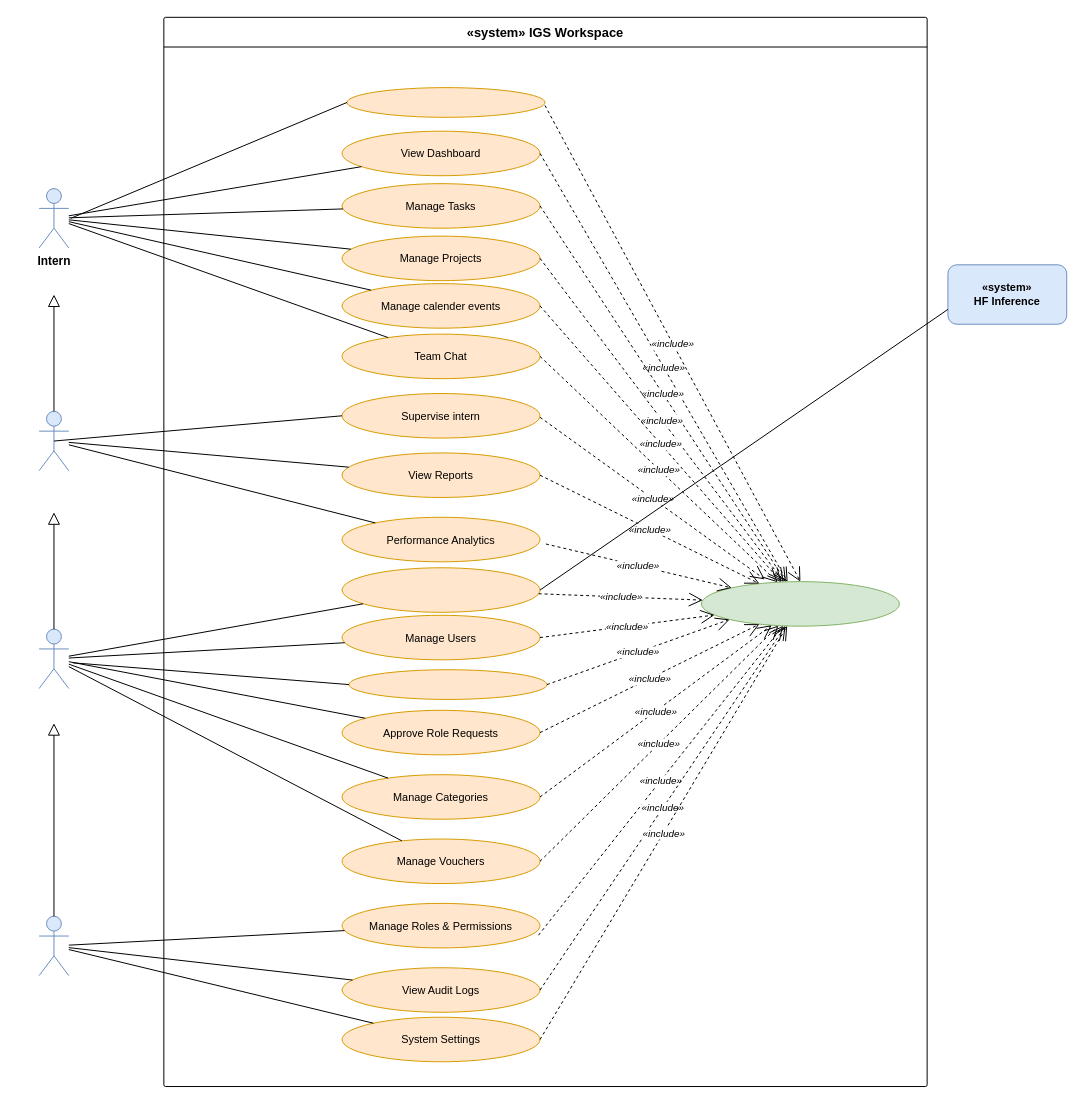
Some shapes in this 1084 by 1104 pixel diagram are drawn without their labels. Here are the shapes that lost their labels. From the top down, the box of each, then its label:
(346, 87, 545, 117): Manage Profile
(38, 410, 69, 471): Employee
(341, 567, 540, 612): Moderate Assets
(700, 581, 899, 626): Authenticate
(38, 628, 69, 689): Admin
(348, 669, 547, 699): Manage Orders
(38, 915, 69, 976): Super Admin
